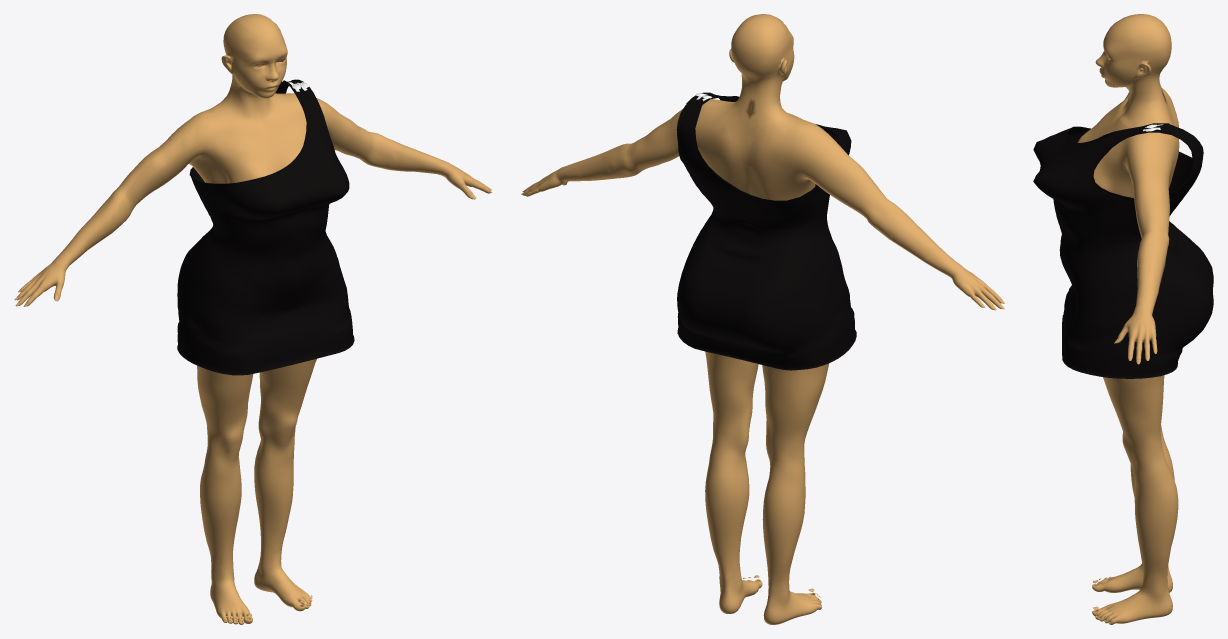
File: dress6.glb
3 renders of one model, left to right at view 1: azimuth 30°, elevation 25°; view 2: azimuth 150°, elevation 25°; view 3: azimuth 270°, elevation 25°, orthographic.
Parts seen in each view (by area): view 1: Body.008, WhiteDress; view 2: Body.008, WhiteDress; view 3: Body.008, WhiteDress.
Part boxes in pixels (left/top/right/bottom): Body.008: left=17, top=14, right=491, bottom=624; WhiteDress: left=177, top=79, right=354, bottom=375; Body.008: left=522, top=14, right=1002, bottom=624; WhiteDress: left=676, top=92, right=856, bottom=370; Body.008: left=1077, top=14, right=1179, bottom=624; WhiteDress: left=1033, top=123, right=1213, bottom=378.
Size of the model in its own units: 1.58 by 1.85 by 0.5147.
